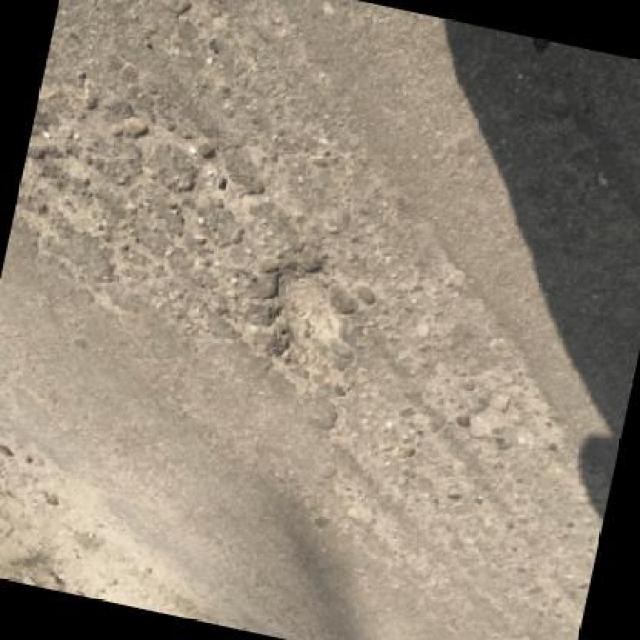pothole: (255, 256, 353, 366)
